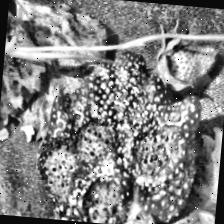Anthracnose Fruit Rot: (29, 44, 205, 224)
